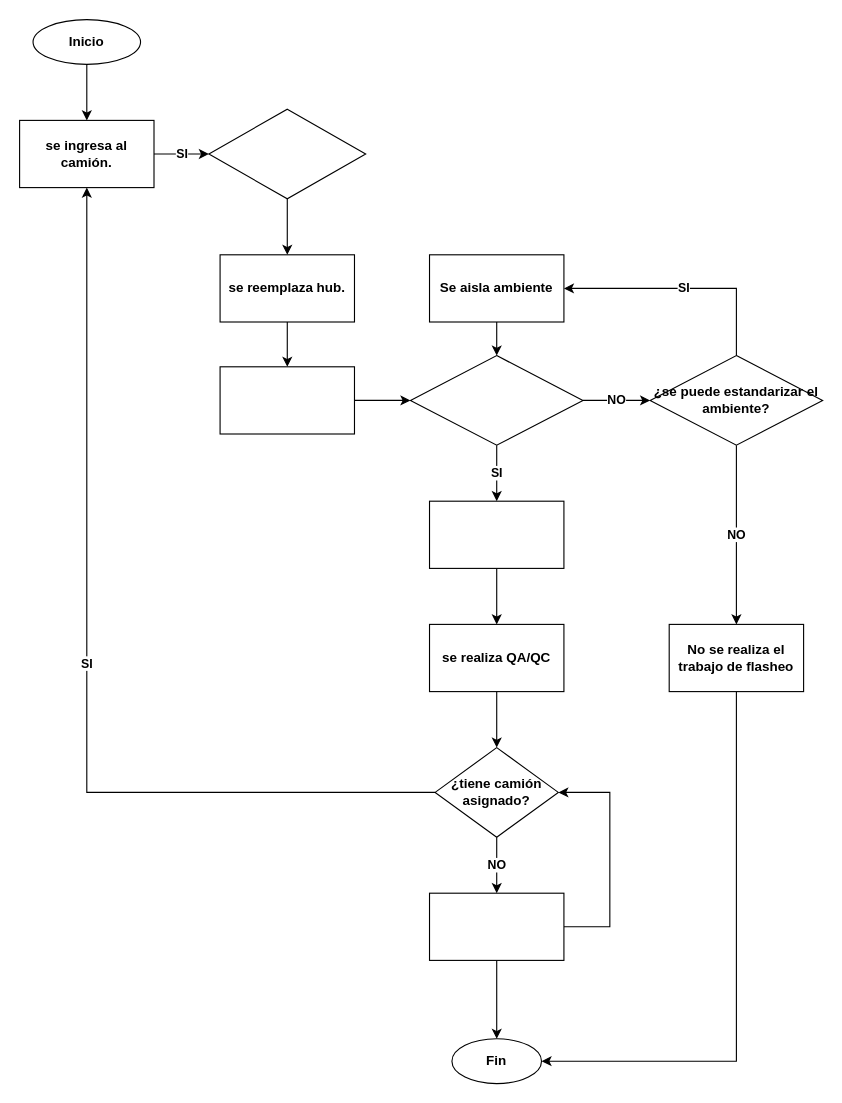
The diagram is 842 pixels wide and 1103 high, and some of its shapes have lost their labels. The centre of each missing label's shape, as x and y in pixels:
Se almacena como hub de respaldo.: the point at 496,926
se flashea el hub: the point at 496,534
se traslada hub retirado a gabinete.: the point at 286,400
¿hay aislamiento adecuado?: the point at 496,399
¿se tiene hub de reemplazo?: the point at 287,153
